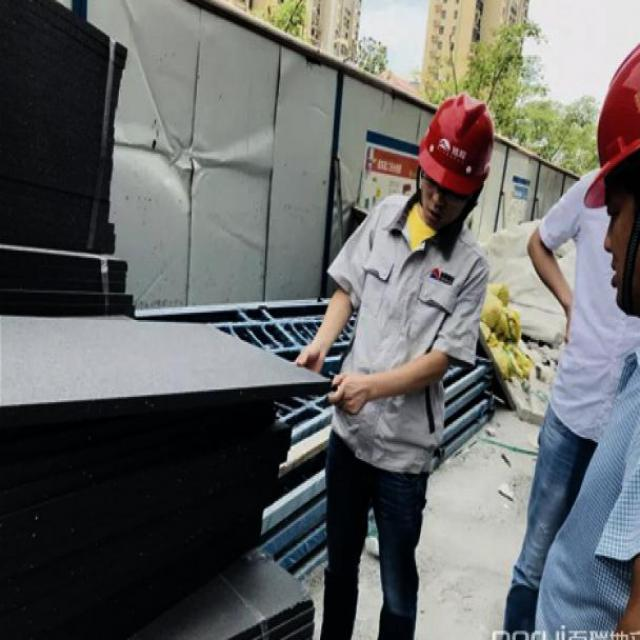helmet: (577, 3, 639, 322), (418, 80, 486, 227)
